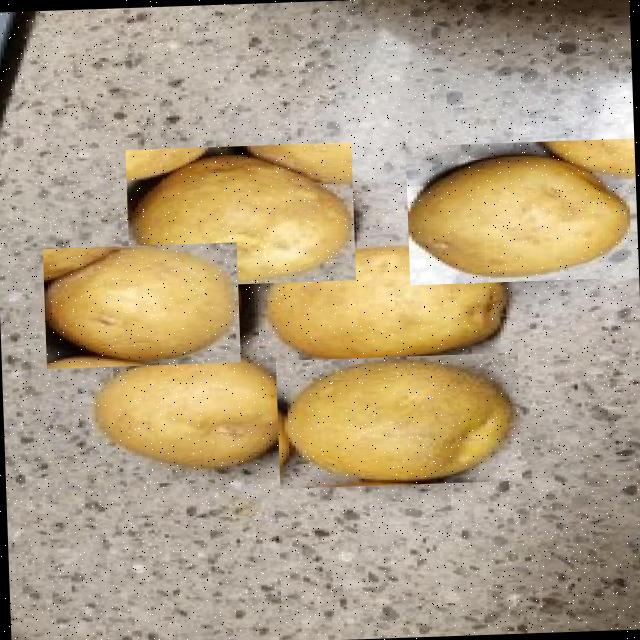Potato: (405, 137, 639, 284), (124, 140, 356, 286), (276, 352, 522, 488), (261, 242, 510, 374), (86, 349, 300, 476), (42, 240, 240, 368)
